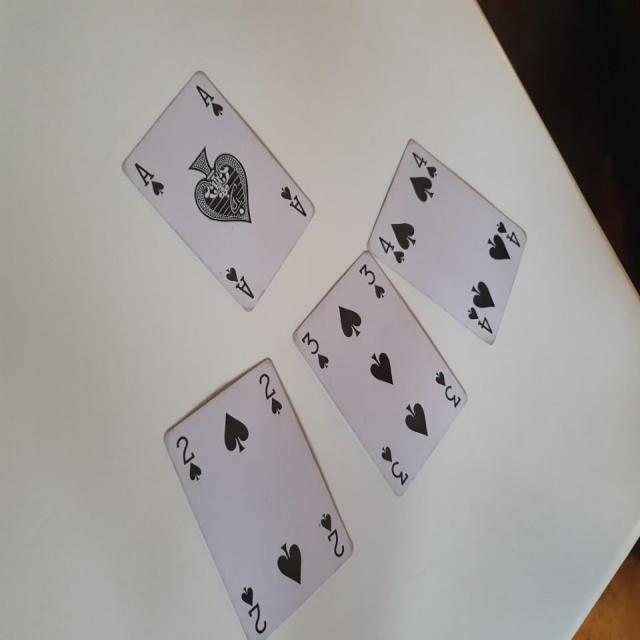2 of spades: (172, 372, 344, 640)
3 of spades: (300, 254, 460, 500)
4 of spades: (372, 136, 528, 348)
ace of spades: (126, 73, 313, 307)
